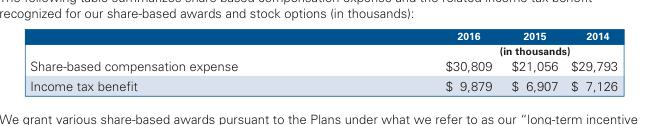table: (29, 29, 617, 93)
table column: (29, 29, 341, 93), (341, 29, 495, 93), (495, 29, 569, 93), (569, 29, 617, 93)
table column header: (29, 29, 617, 57)
table row: (29, 29, 617, 57), (29, 57, 617, 75), (29, 75, 617, 93)
